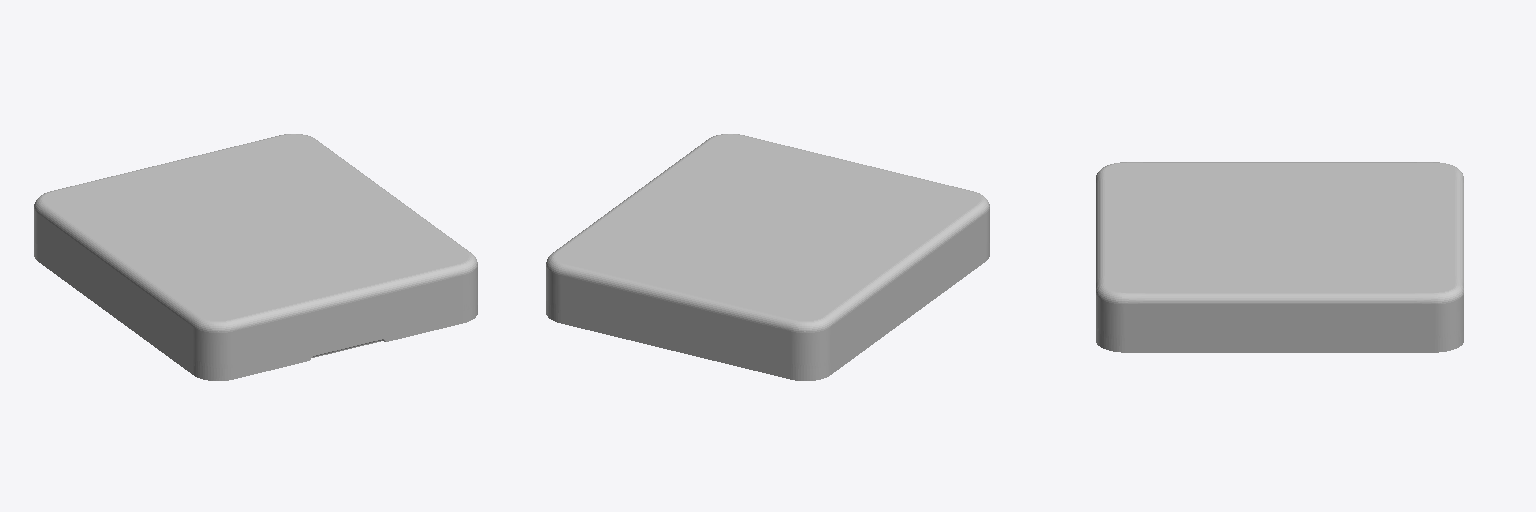
The model's file is editedTop.obj.
The picture shows the model from 3 angles: view 1: azimuth 30°, elevation 25°; view 2: azimuth 150°, elevation 25°; view 3: azimuth 270°, elevation 25°; orthographic projection.
Parts seen in each view (by area): view 1: Top; view 2: Top; view 3: Top.
Boxes of the visible parts, x1,y1,x2,y2 form: Top: [34, 134, 477, 380]; Top: [546, 134, 989, 380]; Top: [1096, 162, 1463, 352].
Size of the model in its own units: 73.2 by 14 by 83.2.